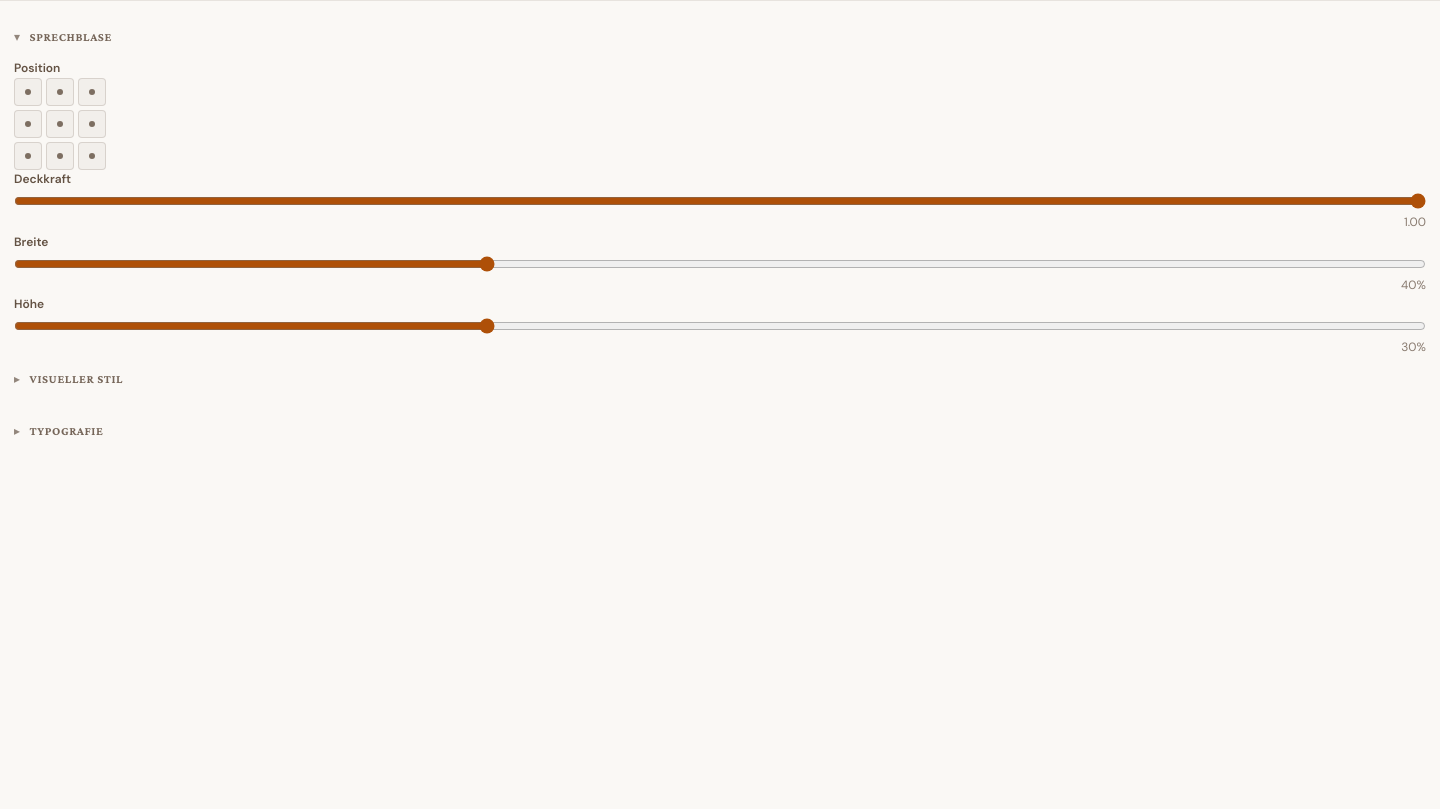
Test case: LayoutConfigSpeechBubble - Tier 1 Visual Style (4c-B-2 C2) › Tier 1 reads honour bubbles[0] precedence over flat (background_color)
Click the button with test id "speech-bubble-tier1-trigger" at (69, 379), box [14,357,123,401]
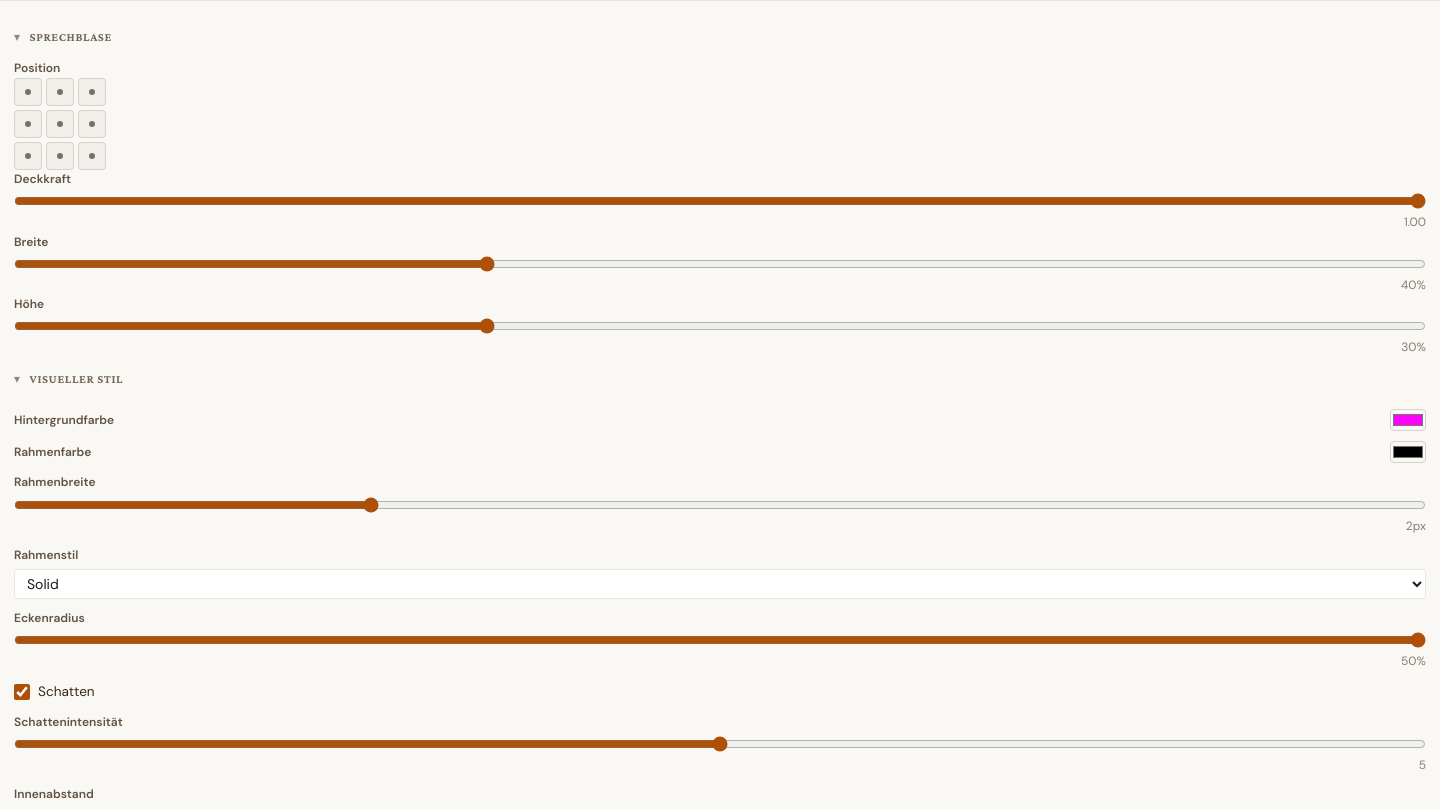
Expected: the colour field with test id "speech-bubble-background-color" holds "#ff00ff", [1390,409,1426,431]
